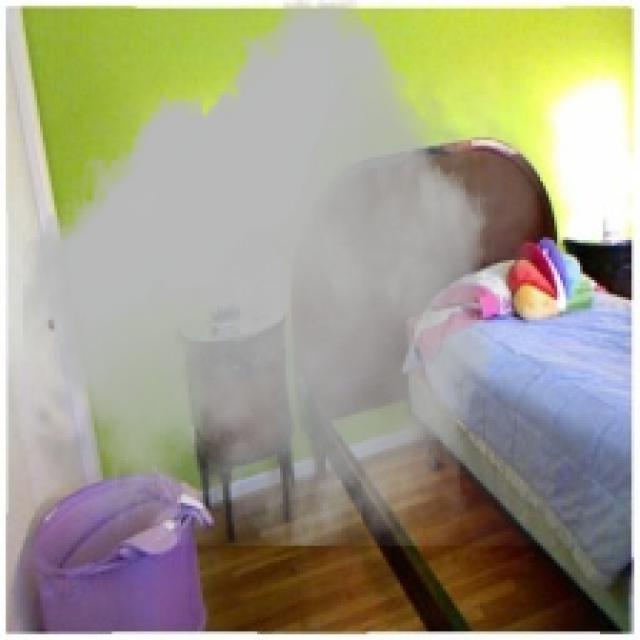Smoke: (14, 0, 554, 546)
